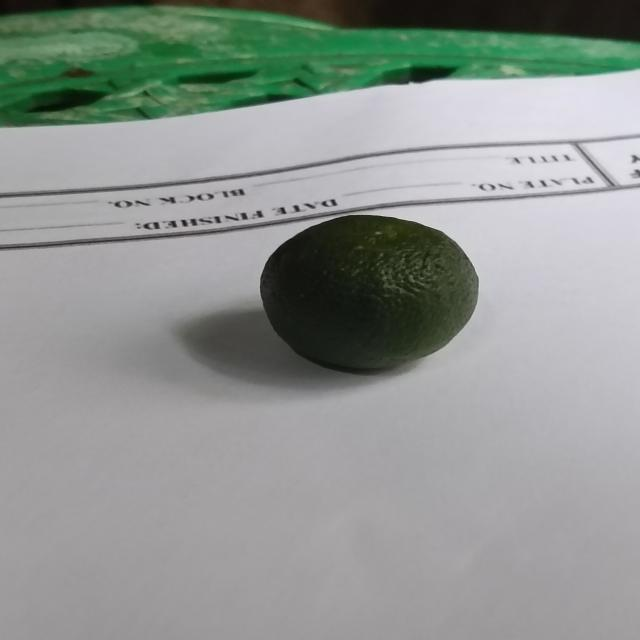heathy: (260, 214, 482, 373)
